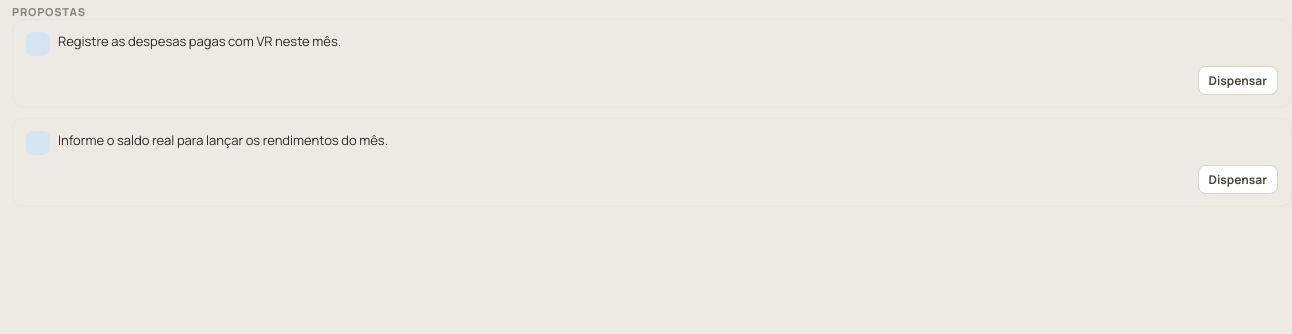
Test: CentralDeAvisos — aviso rendimentos abre FormRendimentos em vez do toggle de inspeção (Task 11) › T11-CA-04: clicar no card do aviso vr continua abrindo FormVR, não FormRendimentos
Click the text "Registre as despesas pagas com VR neste mês.".
click(200, 41)  # box [58,32,341,50]
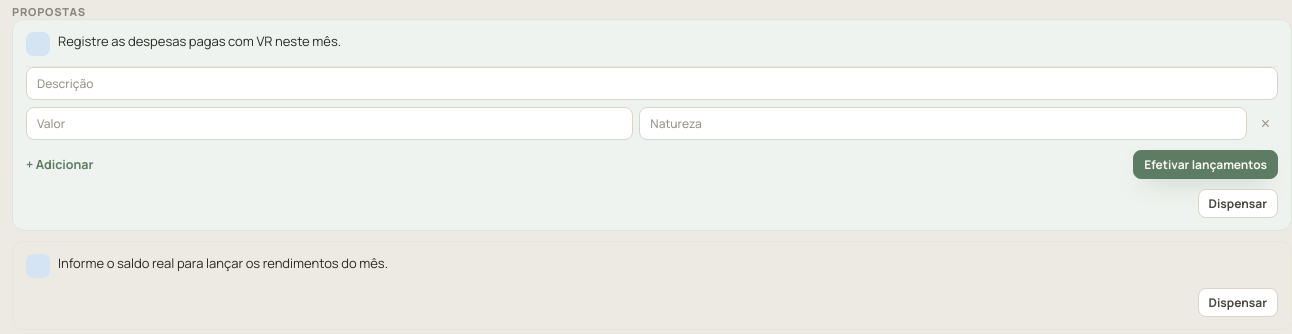
Check: the form with test id "form-vr" is shown, box [26,66,1278,179]
